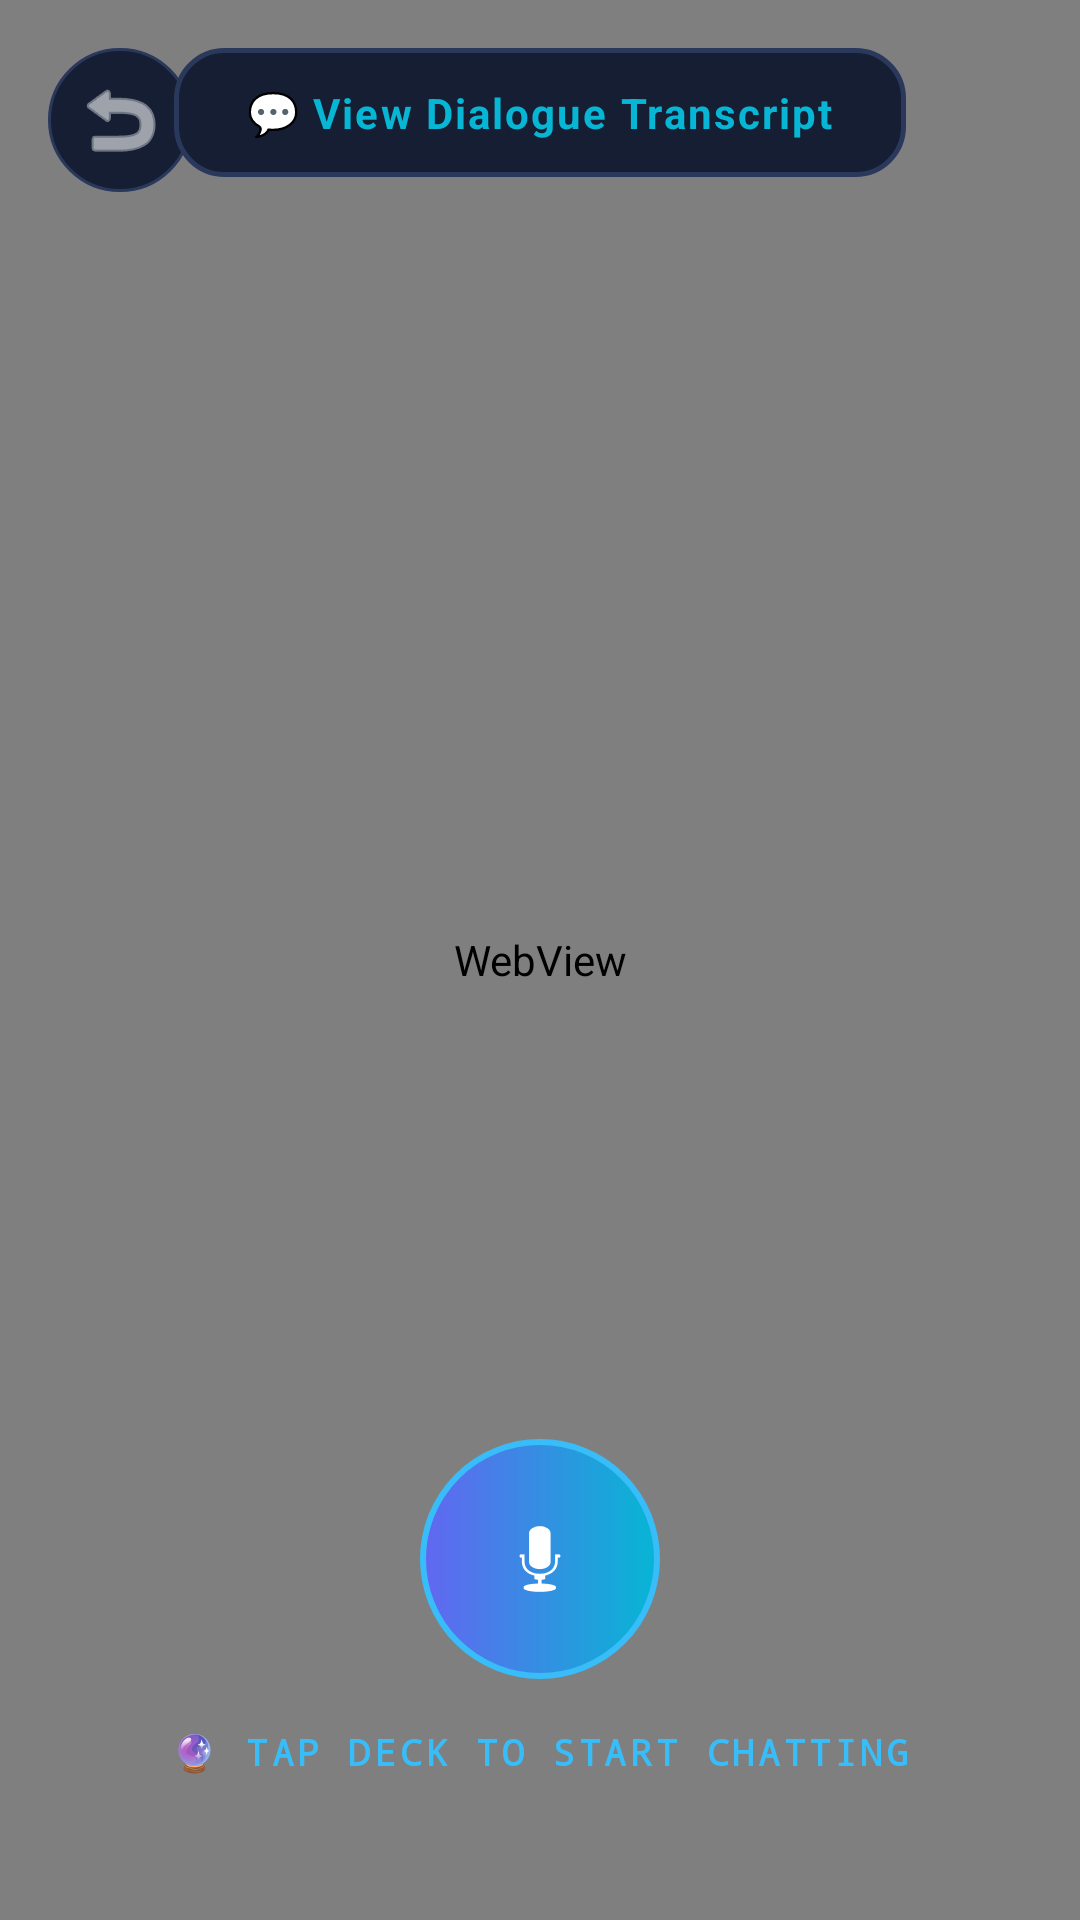

Icons on this 1080w x 1920h Android screen, each with its box as bbox=[x1, y1, x2, y2]:
Close Hologram View: bbox=[48, 48, 192, 192]
Microphone Dictation: bbox=[420, 1439, 660, 1679]
